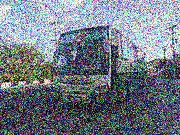bus: (52, 24, 149, 109)
